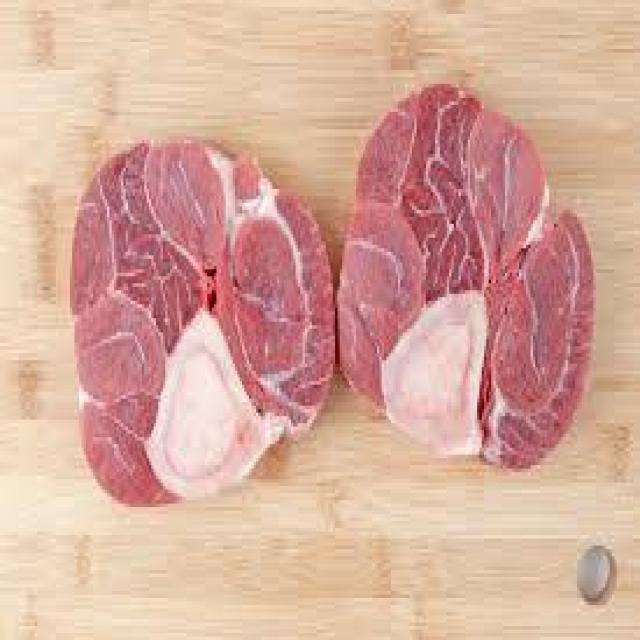beef: (47, 143, 338, 514)
